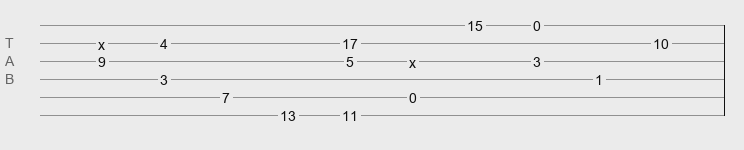0: (409, 90, 417, 100), (533, 18, 541, 28)
1: (595, 72, 603, 82)
10: (653, 36, 669, 46)
11: (342, 108, 358, 118)
13: (280, 108, 296, 118)
15: (467, 18, 483, 28)
17: (342, 36, 358, 46)
3: (160, 72, 168, 82), (533, 54, 541, 64)
4: (160, 36, 168, 46)
5: (346, 54, 354, 64)
7: (222, 90, 230, 100)
9: (98, 54, 106, 64)
x: (98, 37, 105, 45), (409, 55, 416, 63)
